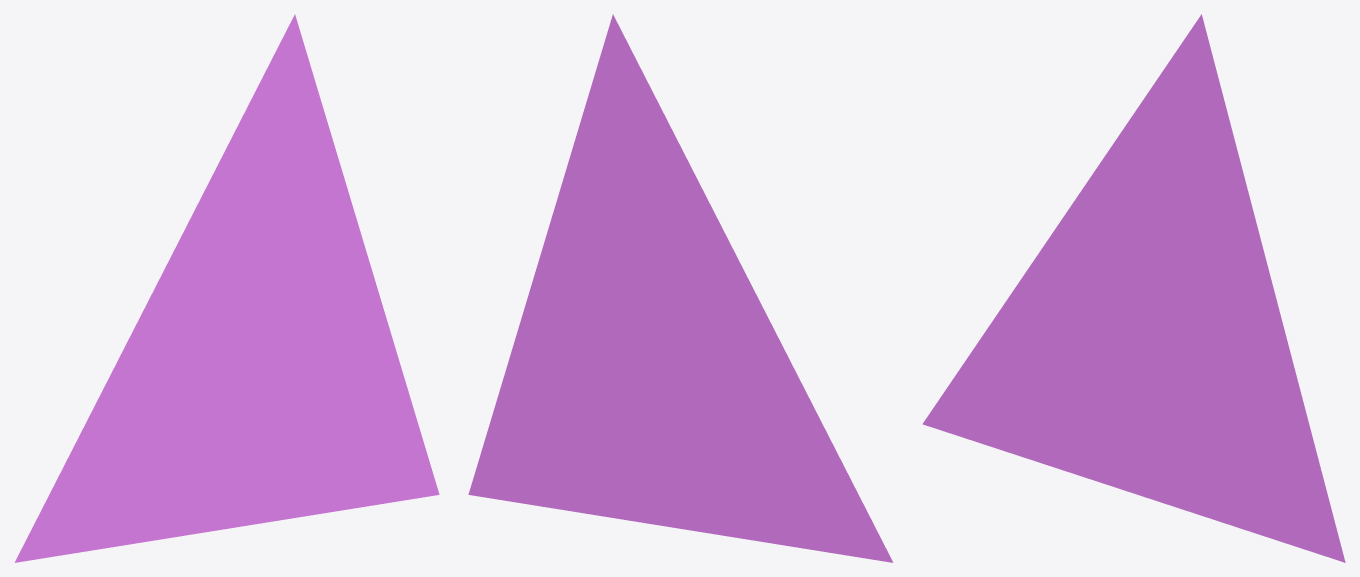
File: multi-linear.gltf
3 views of the same model, side by side, from view 1: azimuth 30°, elevation 25°; view 2: azimuth 150°, elevation 25°; view 3: azimuth 330°, elevation 25° (orthographic).
Parts seen in each view (by area): view 1: Probe; view 2: Probe; view 3: Probe.
Part boxes in pixels (x1,y1,x2,y2): Probe: (14,14,439,562); Probe: (468,14,893,562); Probe: (922,14,1345,562).
Size of the model in its own units: 1 by 1.16 by 0.
